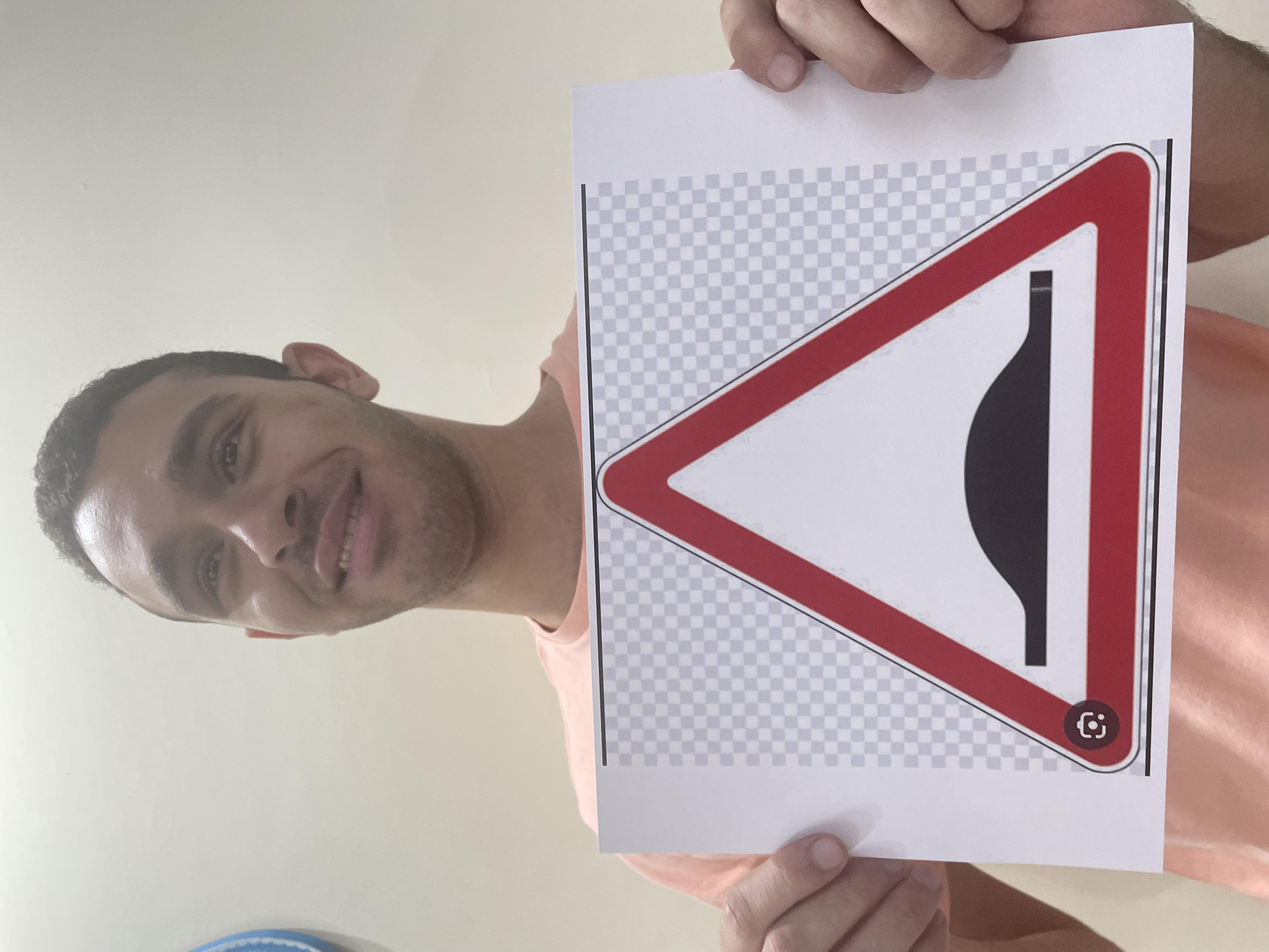Hump: (220, 449, 1071, 878)
